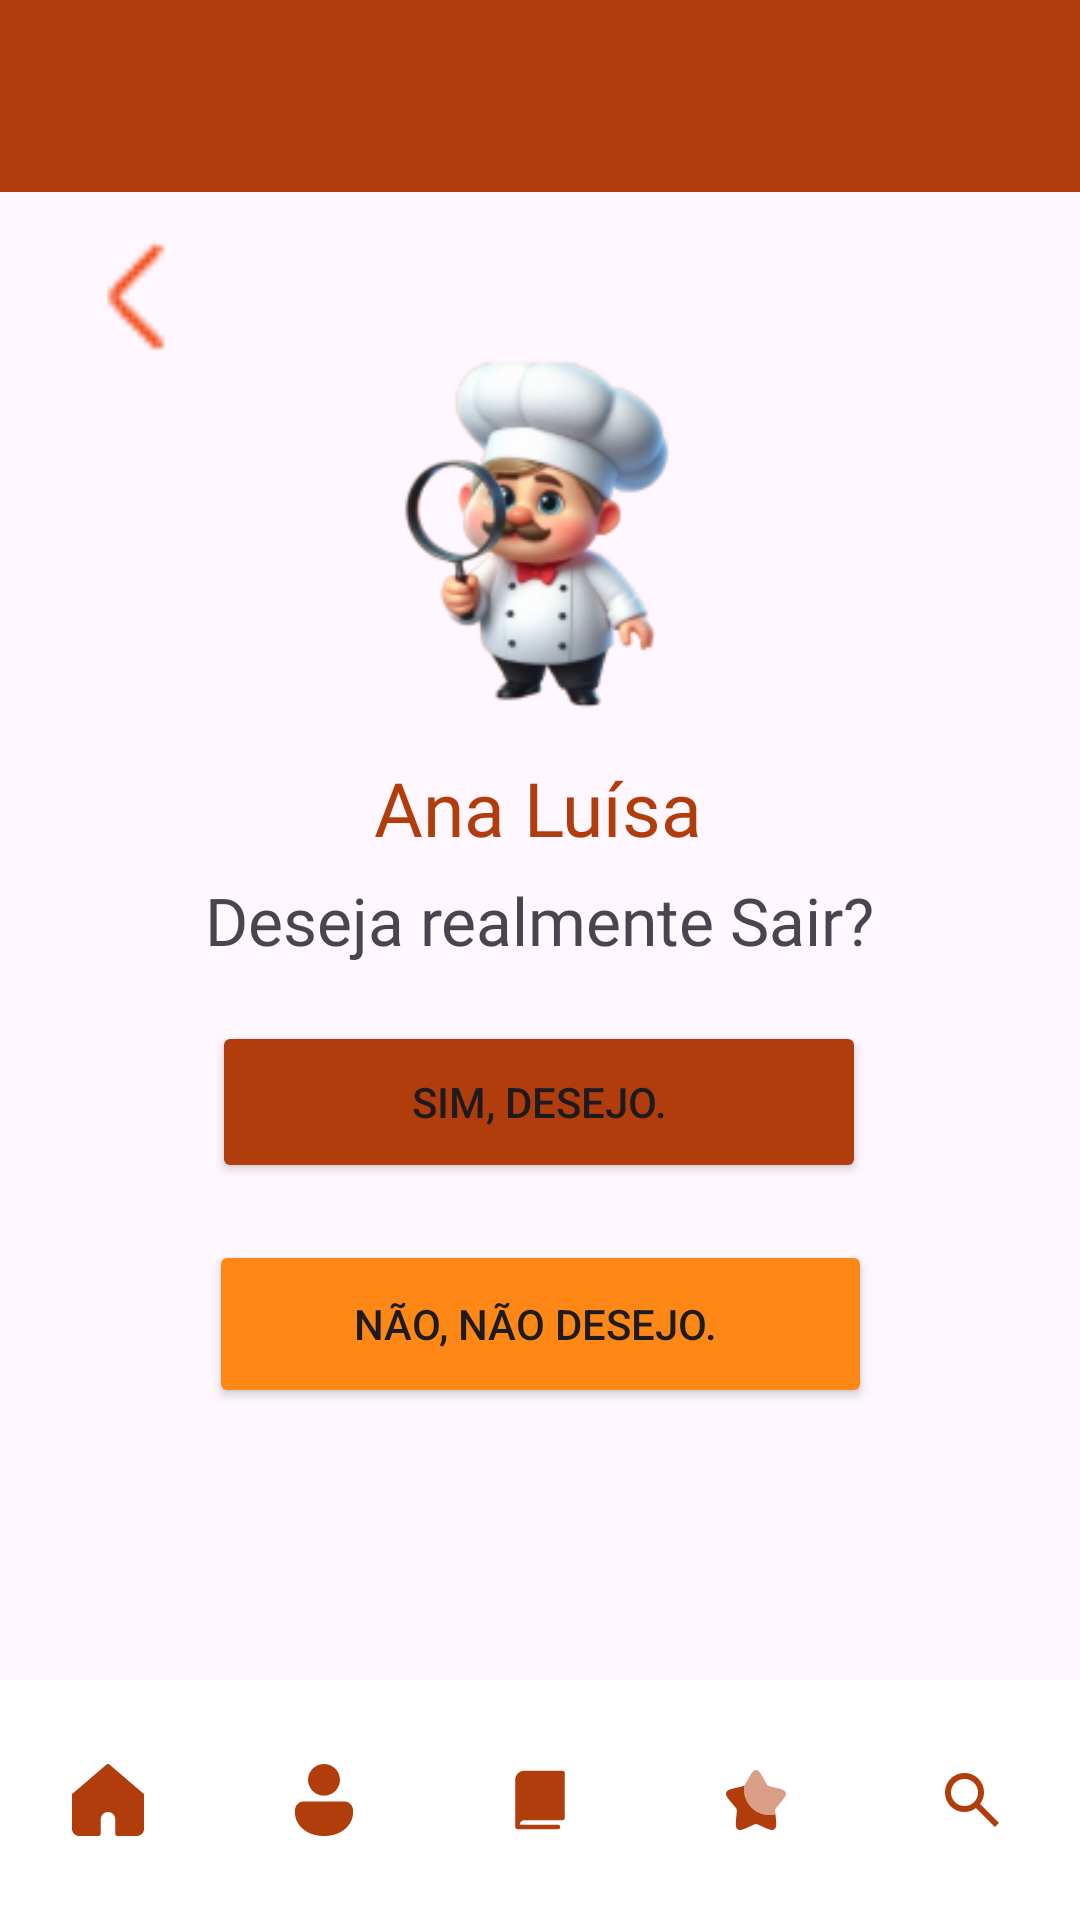

Icons on this 1080×1920 Android screen, each with the point to tap as [x,y]:
voltar para tela de perfil: [136,296]
